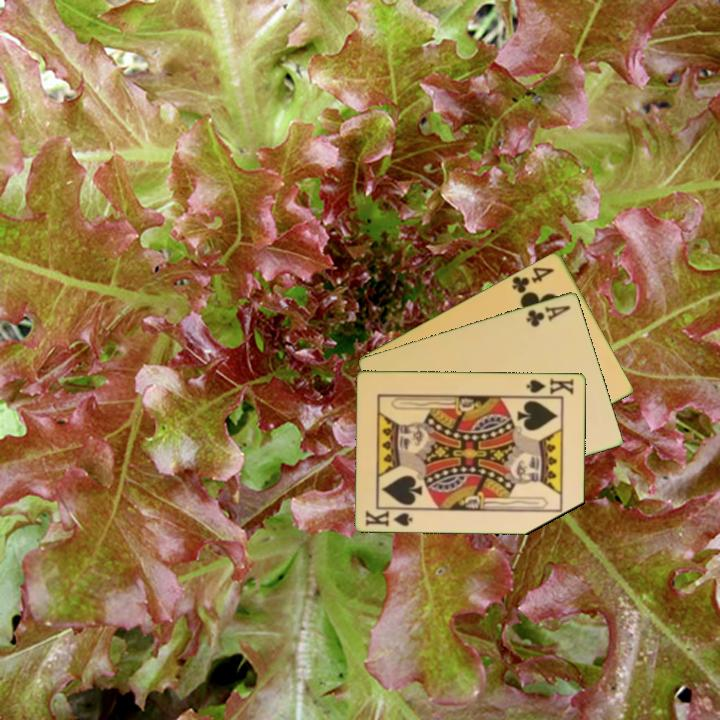4c: (508, 263, 557, 299)
Ac: (523, 301, 573, 329)
Ks: (362, 505, 417, 529), (523, 375, 577, 399)
